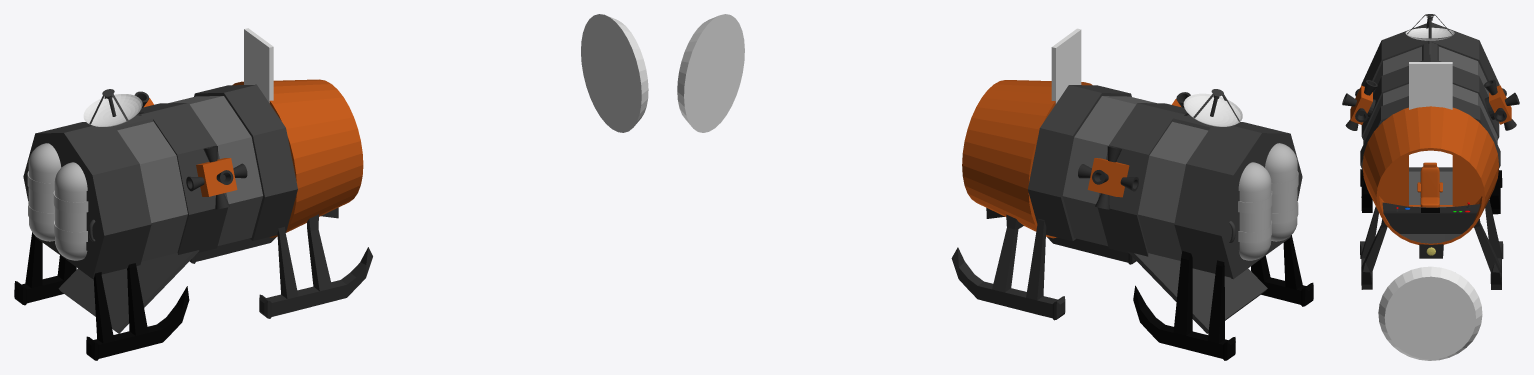
The model's file is SpaceShip.fbx.
The picture shows the model from 3 angles, left to right: view 1: azimuth 30°, elevation 25°; view 2: azimuth 150°, elevation 25°; view 3: azimuth 270°, elevation 25°; orthographic projection. The views are drawn at different scales.
Visible parts, largest first — view 1: Цилиндр.012, Цилиндр.015, корпус головки.001, сткело, Цилиндр.013, Цилиндр.014, Держатель.001, Держатель, Куб.002, Сфера.001, Сфера.002, Держатель.003 (+4 smaller); view 2: Цилиндр.012, Цилиндр.015, корпус головки.001, сткело, Цилиндр.013, Цилиндр.014, Держатель.002, Держатель.003, Куб.002, Сфера.002, Сфера.001, Держатель (+4 smaller); view 3: корпус головки.001, сткело, Цилиндр.012, Цилиндр.015, Куб.009, Дверь в управлние, Цилиндр.014, Держатель.002, Цилиндр.013, Держатель.001, Куб.008, Сфера (+9 smaller).
Boxes of the visible parts, bbox=[...] form: Цилиндр.012: bbox=[117, 96, 262, 261]; Цилиндр.015: bbox=[23, 122, 151, 278]; корпус головки.001: bbox=[232, 79, 363, 237]; сткело: bbox=[581, 14, 648, 132]; Цилиндр.013: bbox=[194, 84, 297, 240]; Цилиндр.014: bbox=[138, 103, 228, 254]; Держатель.001: bbox=[259, 214, 372, 318]; Держатель: bbox=[86, 263, 189, 360]; Куб.002: bbox=[58, 250, 199, 333]; Сфера.001: bbox=[53, 162, 88, 260]; Сфера.002: bbox=[27, 143, 61, 241]; Держатель.003: bbox=[14, 232, 76, 305]; Цилиндр.012: bbox=[1062, 96, 1208, 260]; Цилиндр.015: bbox=[1174, 122, 1302, 279]; корпус головки.001: bbox=[962, 80, 1092, 238]; сткело: bbox=[677, 14, 744, 132]; Цилиндр.013: bbox=[1028, 85, 1131, 241]; Цилиндр.014: bbox=[1097, 103, 1187, 256]; Держатель.002: bbox=[951, 214, 1065, 320]; Держатель.003: bbox=[1133, 251, 1235, 360]; Куб.002: bbox=[1128, 252, 1267, 333]; Сфера.002: bbox=[1238, 162, 1272, 260]; Сфера.001: bbox=[1265, 143, 1298, 241]; Держатель: bbox=[1251, 235, 1313, 306]; корпус головки.001: bbox=[1362, 106, 1498, 244]; сткело: bbox=[1378, 266, 1482, 360]; Цилиндр.012: bbox=[1363, 46, 1497, 204]; Цилиндр.015: bbox=[1361, 22, 1499, 86]; Куб.009: bbox=[1382, 202, 1480, 233]; Дверь в управлние: bbox=[1409, 62, 1452, 109]; Цилиндр.014: bbox=[1361, 57, 1499, 139]; Держатель.002: bbox=[1473, 199, 1503, 289]; Цилиндр.013: bbox=[1360, 96, 1500, 170]; Держатель.001: bbox=[1360, 206, 1387, 289]; Куб.008: bbox=[1417, 162, 1442, 207]; Сфера: bbox=[1405, 27, 1454, 40].
Bounding box in the file's own units: 6043 × 2435 × 1879.
